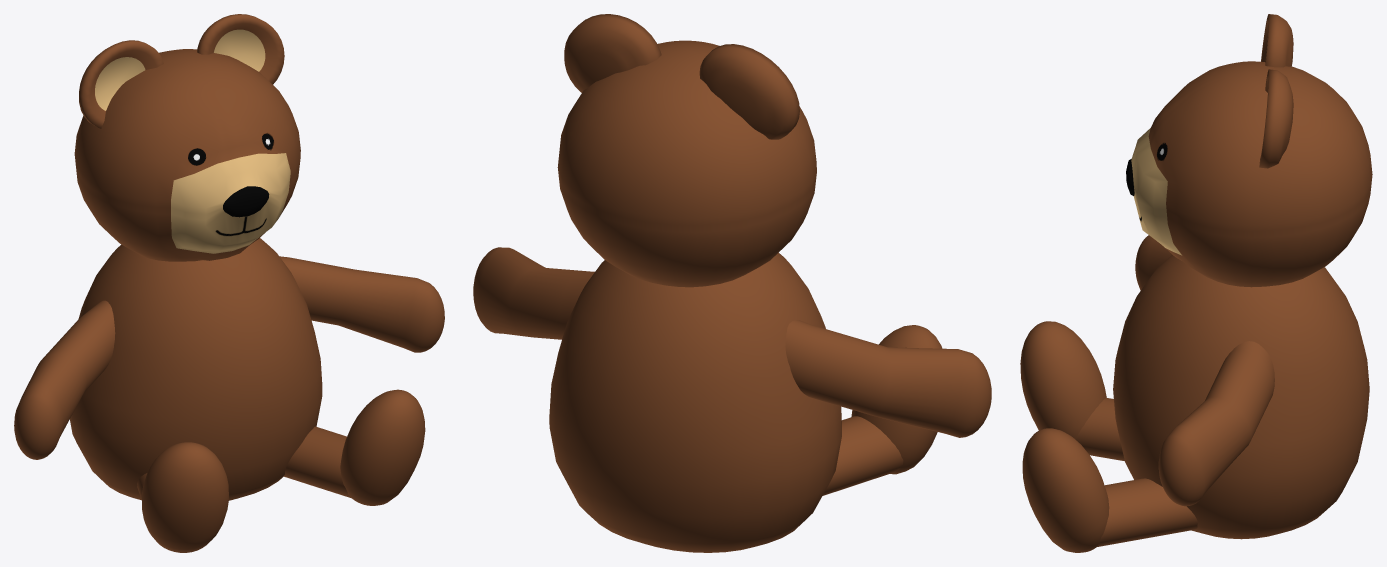
File: teddy_bear.fbx
3 views of the same model, side by side, from view 1: azimuth 30°, elevation 25°; view 2: azimuth 150°, elevation 25°; view 3: azimuth 270°, elevation 25° (orthographic). The views are drawn at different scales.
Parts seen in each view (by area): view 1: Body; view 2: Body; view 3: Body.
Part boxes in pixels (bbox=[...]): Body: bbox=[14, 14, 444, 552]; Body: bbox=[473, 14, 991, 552]; Body: bbox=[1020, 14, 1372, 552].
Size of the model in its own units: 124 by 121 by 82.92.
Materials: 3 (1 with a texture image).
